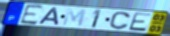1: (91, 9, 103, 30)
A: (37, 7, 60, 27)
C: (108, 11, 132, 31)
E: (19, 4, 46, 26), (127, 12, 153, 32)
M: (61, 8, 88, 28)
